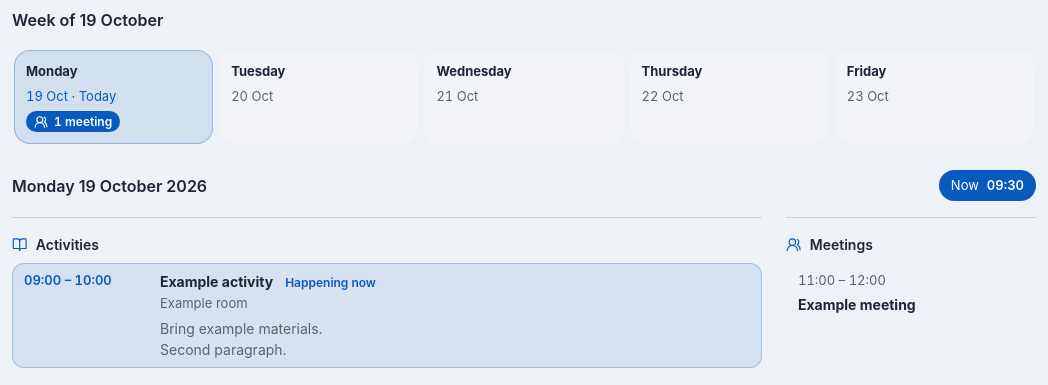
it: switches weekday tabs in place while retaining today's live agenda
This screenshot has width=1048, height=385.
Expected: the text "Example activity" is shown, [160,271,273,292]
Expected: the text "Example meeting" is shown, [798,294,916,316]
Press the mouse on the tab "Tuesday 20 Oct" at (319, 97), box [219,50,418,144]
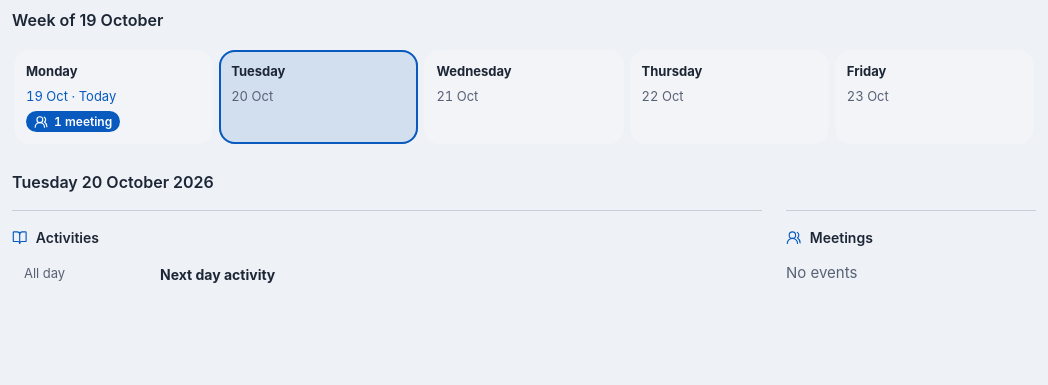
Now the text "Next day activity" is shown, box [160,264,275,285]
Now the text "Example activity" is gone
Now the text "Now" is gone
Press the mouse on the tab "Monday 19 Oct · Today 1 meeting" at (114, 97), box [14,50,213,144]
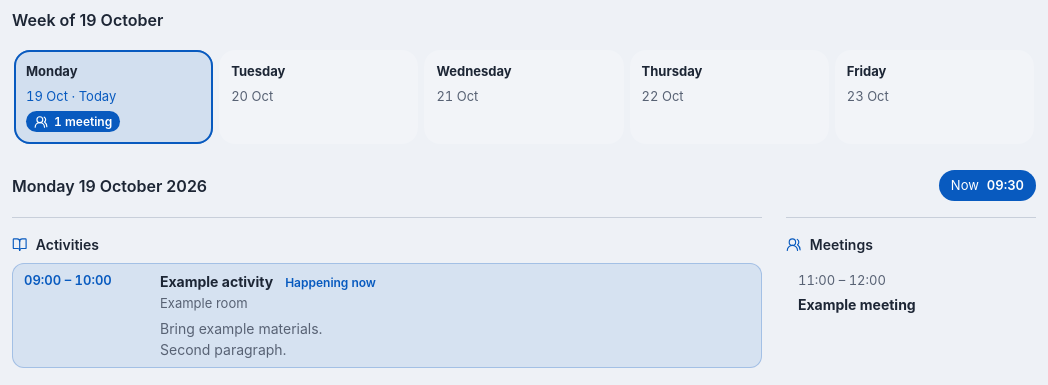
Now the element that starts with "Example activity" is shown, box [160,273,273,290]
